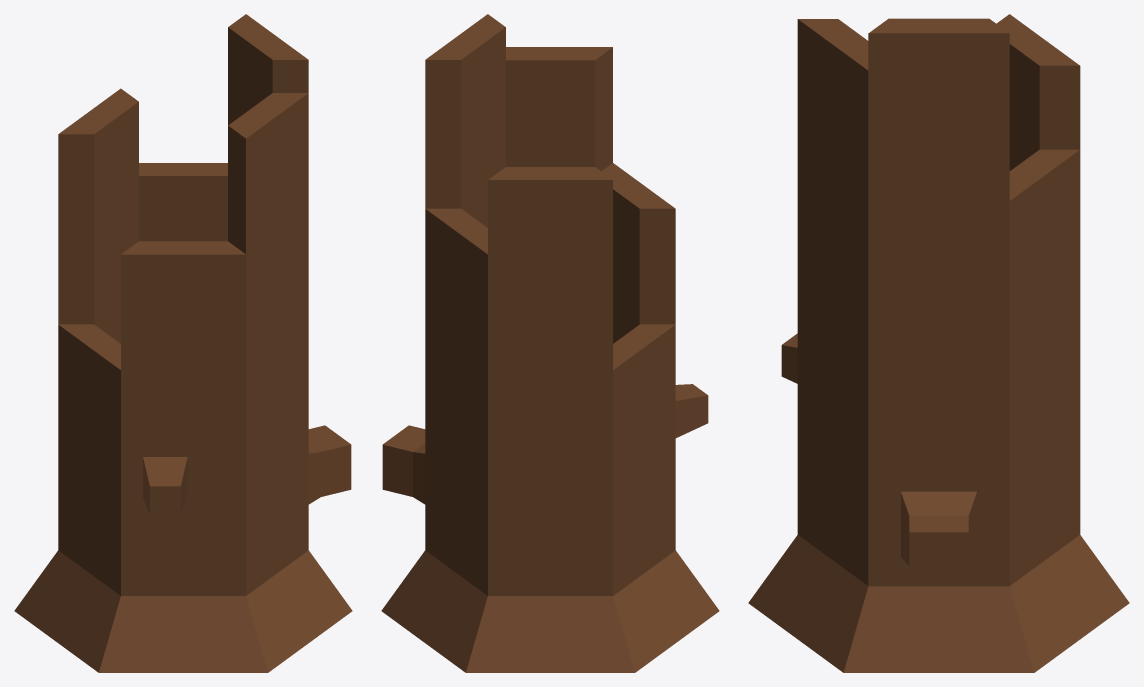
Rendered from kenney_stump_old_tall.glb.
3 views of the same model, side by side, from view 1: azimuth 30°, elevation 25°; view 2: azimuth 150°, elevation 25°; view 3: azimuth 270°, elevation 25° (orthographic). The views are drawn at different scales.
Visible parts, largest first — view 1: bark; view 2: bark; view 3: bark.
Part boxes in pixels (x1,y1,x2,y2): bark: (14,14,352,672); bark: (381,14,719,672); bark: (748,14,1129,672).
Size of the model in its own units: 0.3565 by 0.6665 by 0.371.
